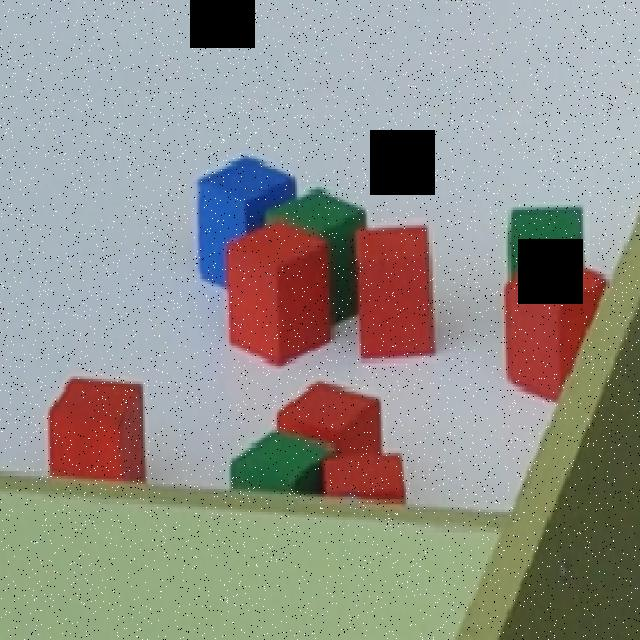bluecube: (195, 156, 295, 287)
green cube: (264, 190, 365, 325), (228, 430, 335, 495), (509, 204, 583, 282)
red cube: (504, 255, 606, 403), (227, 219, 330, 361), (46, 378, 146, 484), (357, 221, 431, 359), (275, 381, 383, 458), (324, 455, 403, 500)
